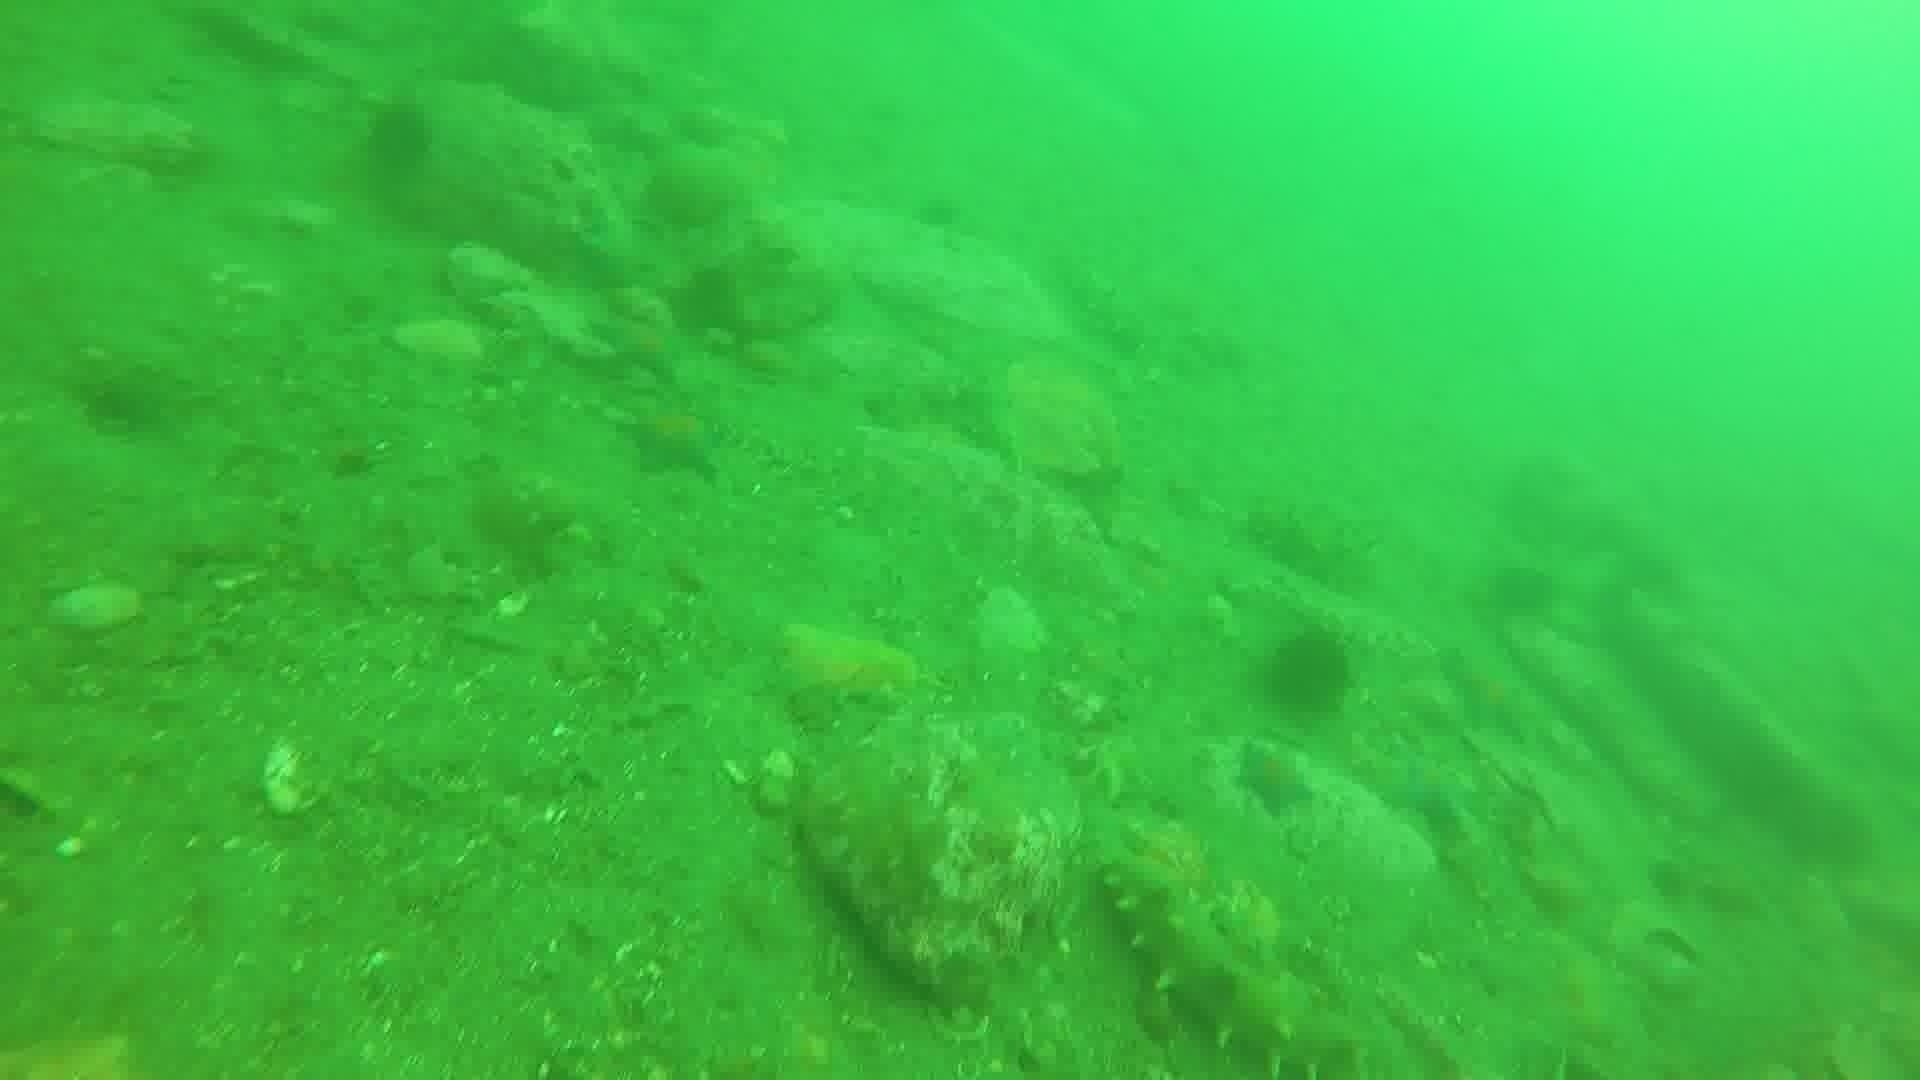echinus: (1259, 625, 1358, 721), (359, 98, 439, 178), (1481, 558, 1561, 624)
holothurian: (1091, 845, 1373, 1072), (1240, 495, 1382, 597)
starfish: (1367, 738, 1487, 840), (1437, 642, 1542, 742), (615, 396, 731, 484), (588, 309, 696, 382), (1230, 738, 1320, 822)
